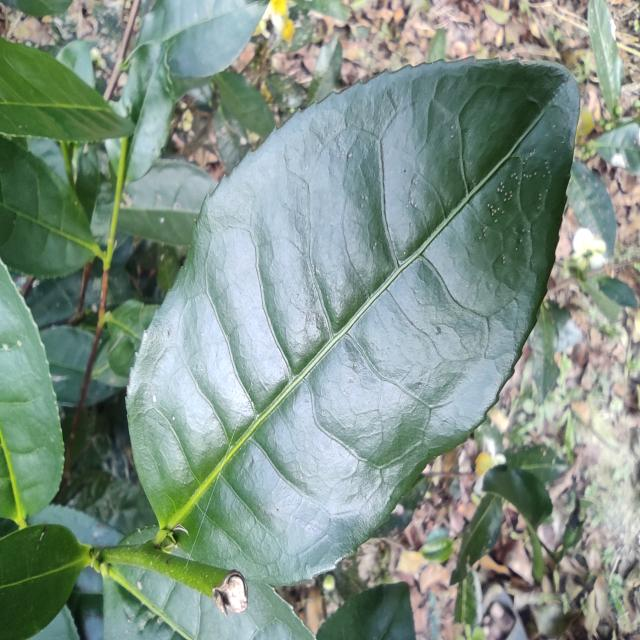Category D(7+ days, Not for Tea): (121, 45, 593, 607)
